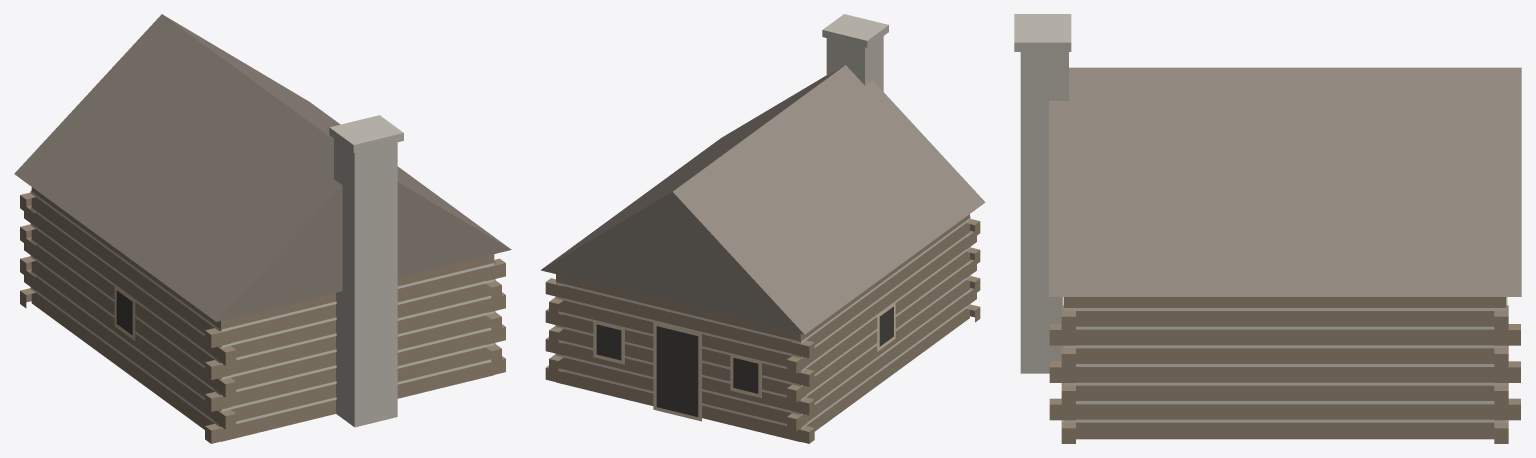
The model's file is recon_1835_west_027__inferred_1835.glb.
3 renders of one model, left to right at view 1: azimuth 30°, elevation 25°; view 2: azimuth 150°, elevation 25°; view 3: azimuth 270°, elevation 25°, orthographic. The views are drawn at different scales.
Parts seen in each view (by area): view 1: recon_1835_west_027__inferred_1835; view 2: recon_1835_west_027__inferred_1835; view 3: recon_1835_west_027__inferred_1835.
Part boxes in pixels (left/top/right/bottom): recon_1835_west_027__inferred_1835: left=14, top=14, right=511, bottom=443; recon_1835_west_027__inferred_1835: left=541, top=14, right=985, bottom=443; recon_1835_west_027__inferred_1835: left=1014, top=14, right=1521, bottom=443.
Bounding box in the file's own units: 6.6 × 6.14 × 8.39.
